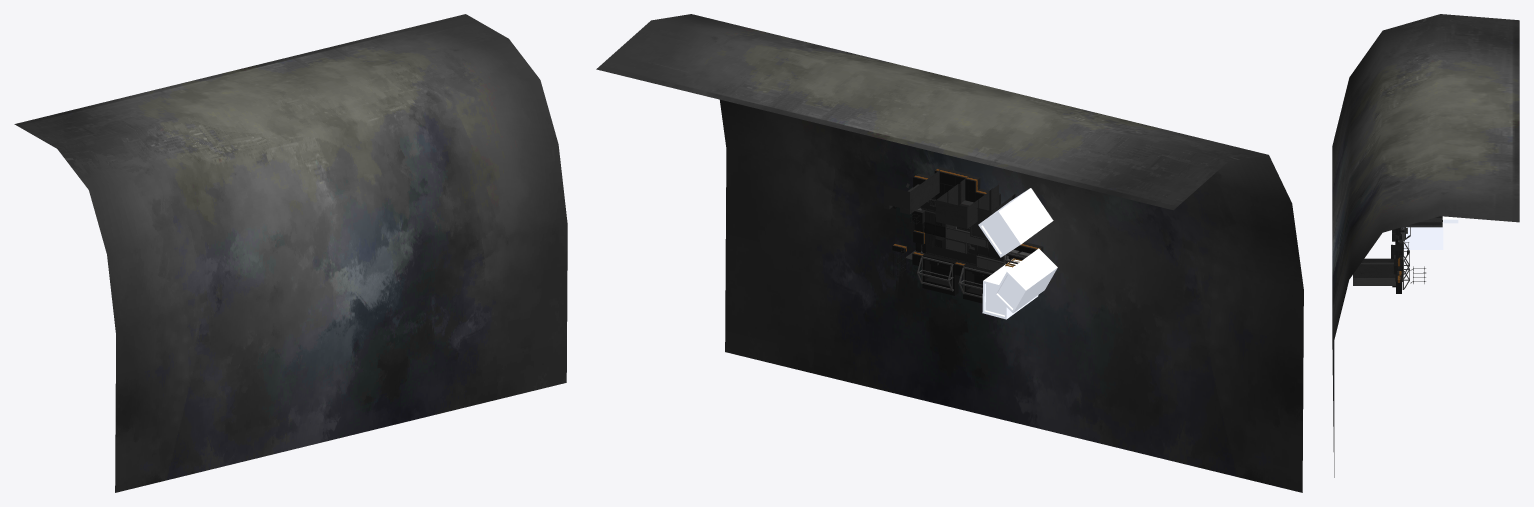
Rendered from BATTLE.fbx.
3 renders of one model, left to right at view 1: azimuth 30°, elevation 25°; view 2: azimuth 150°, elevation 25°; view 3: azimuth 270°, elevation 25°, orthographic. The views are drawn at different scales.
Visible parts, largest first — view 1: BG_Qcity; view 2: BG_Qcity, Shadow (1), Shadow (3), S_Outworld_prop_0374, S_Outworld_prop_015, OP_18, Shadow (4); view 3: BG_Qcity, S_Outworld_prop_0689, Shadow (4), S_Outworld_prop_015.
Boxes of the visible parts, x1,y1,x2,y2 form: BG_Qcity: [14, 14, 567, 492]; BG_Qcity: [596, 14, 1303, 492]; Shadow (1): [978, 188, 1053, 257]; Shadow (3): [994, 248, 1057, 312]; S_Outworld_prop_0374: [936, 177, 998, 228]; S_Outworld_prop_015: [883, 170, 939, 214]; OP_18: [922, 253, 959, 295]; Shadow (4): [982, 258, 1038, 319]; BG_Qcity: [1332, 14, 1519, 477]; S_Outworld_prop_0689: [1353, 258, 1395, 285]; Shadow (4): [1403, 219, 1443, 249]; S_Outworld_prop_015: [1402, 216, 1442, 227].
Size of the model in its own units: 0.5573 by 0.3558 by 0.2179.
